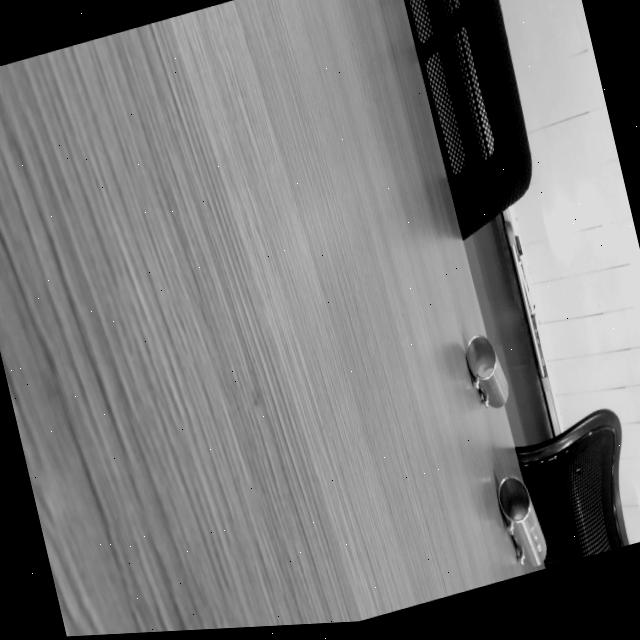Co_Lon: (489, 472, 551, 572)
Co_Nho: (455, 331, 515, 414)
